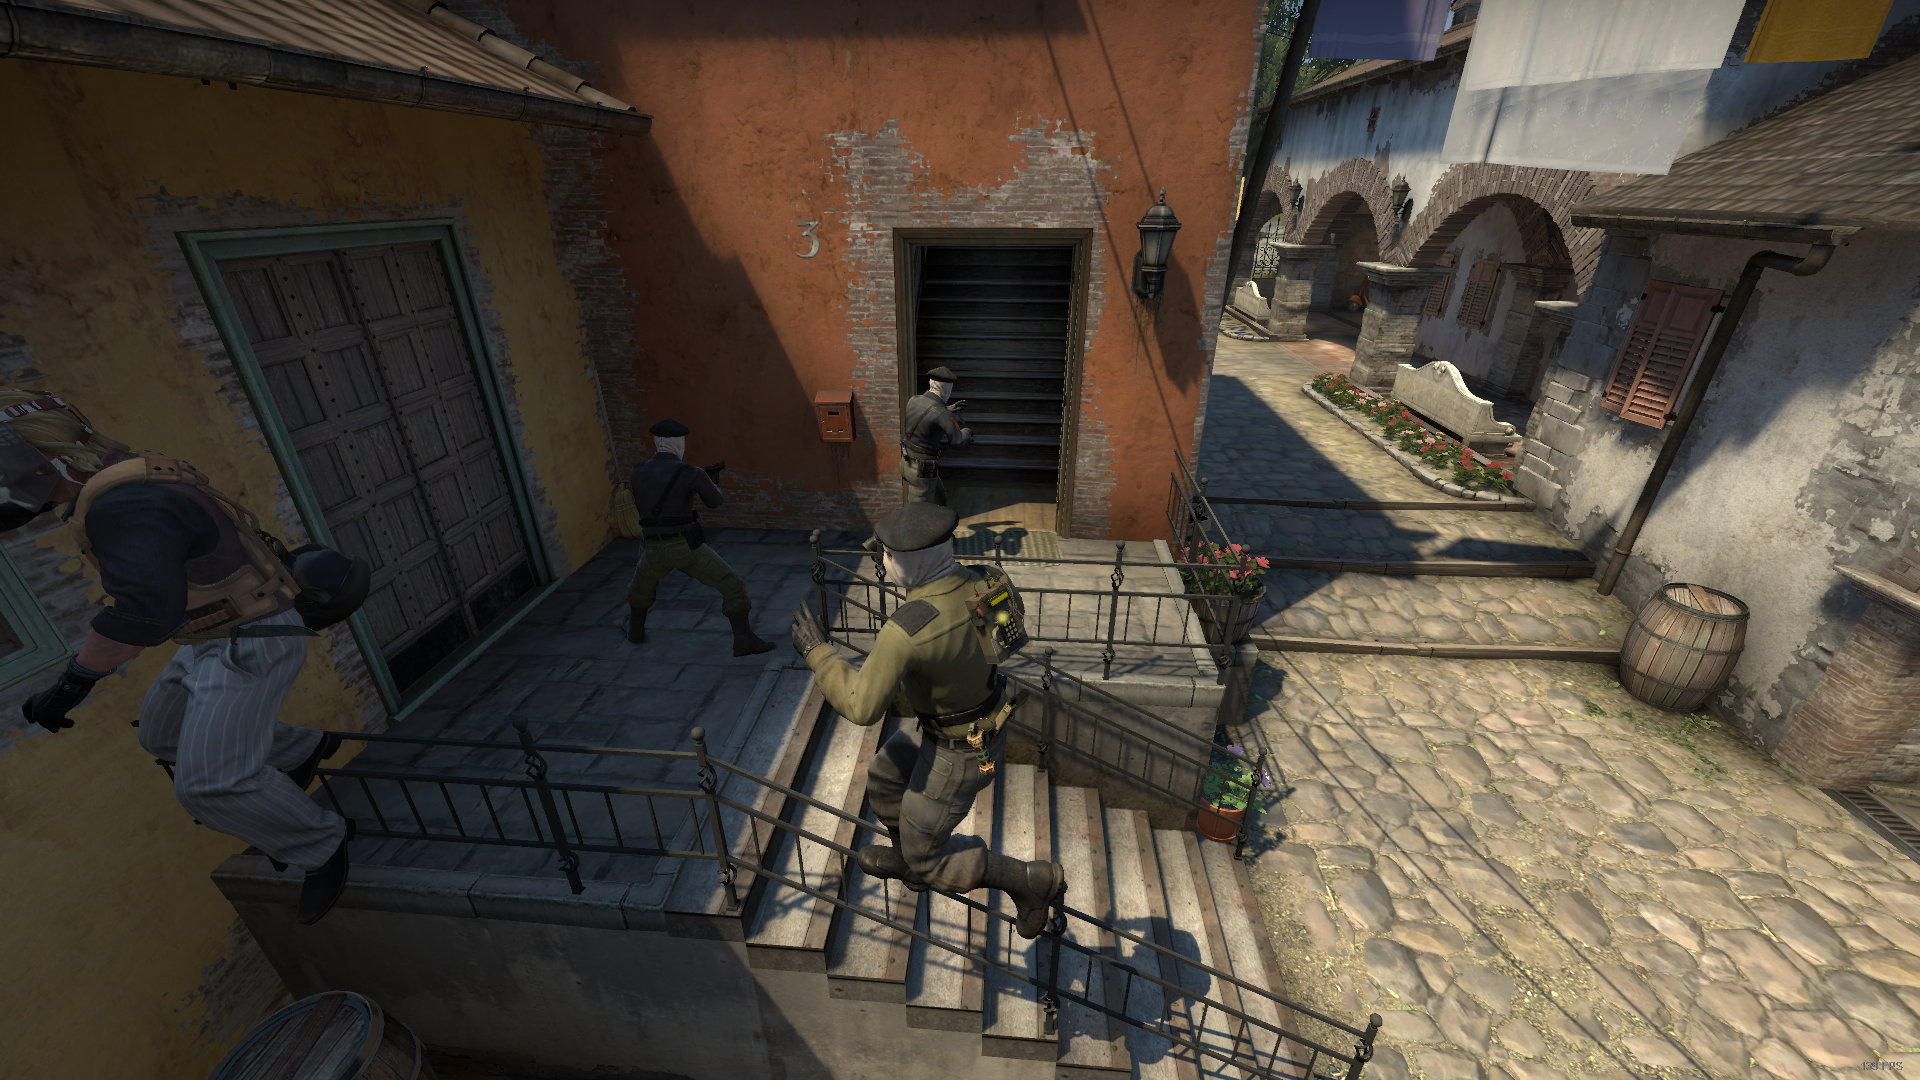t: (789, 509, 1065, 942), (621, 421, 774, 659), (895, 367, 973, 505)
